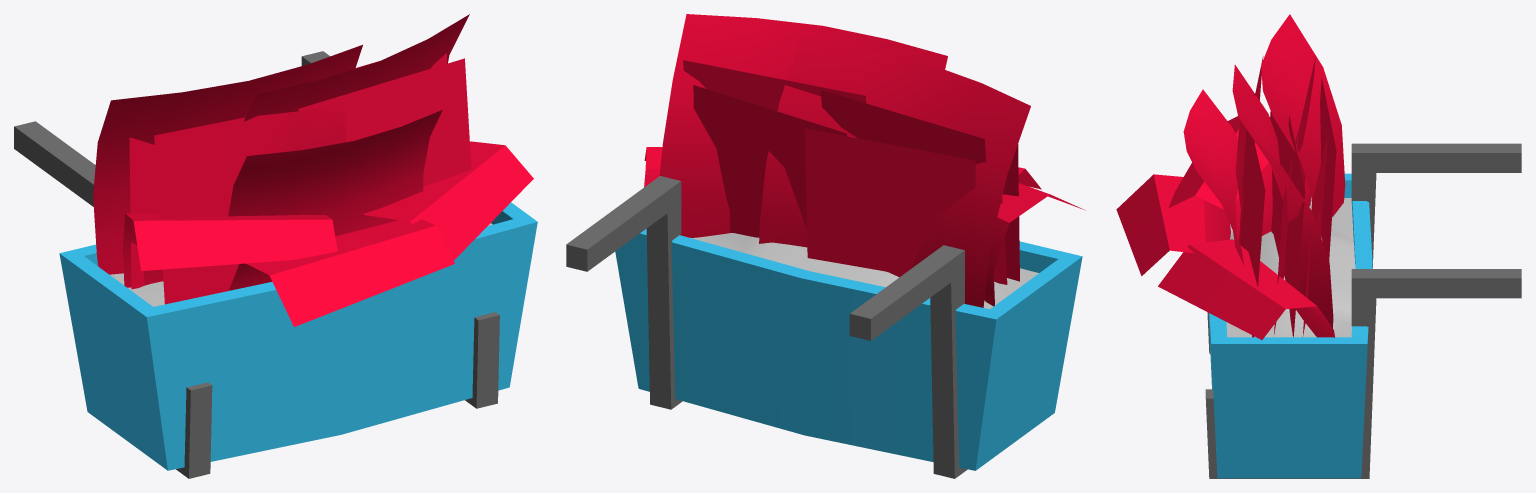
The model's file is Window_flowers.fbx.
3 renders of one model, left to right at view 1: azimuth 30°, elevation 25°; view 2: azimuth 150°, elevation 25°; view 3: azimuth 270°, elevation 25°, orthographic. The views are drawn at different scales.
Visible parts, largest first — view 1: Window_flowers_LOD0; view 2: Window_flowers_LOD0; view 3: Window_flowers_LOD0.
Boxes of the visible parts, x1=… form: Window_flowers_LOD0: x1=14, y1=14, x2=537, y2=478; Window_flowers_LOD0: x1=566, y1=14, x2=1085, y2=478; Window_flowers_LOD0: x1=1116, y1=14, x2=1521, y2=478.
Size of what is drawn, in the model's own units: 177 by 143 by 165.
